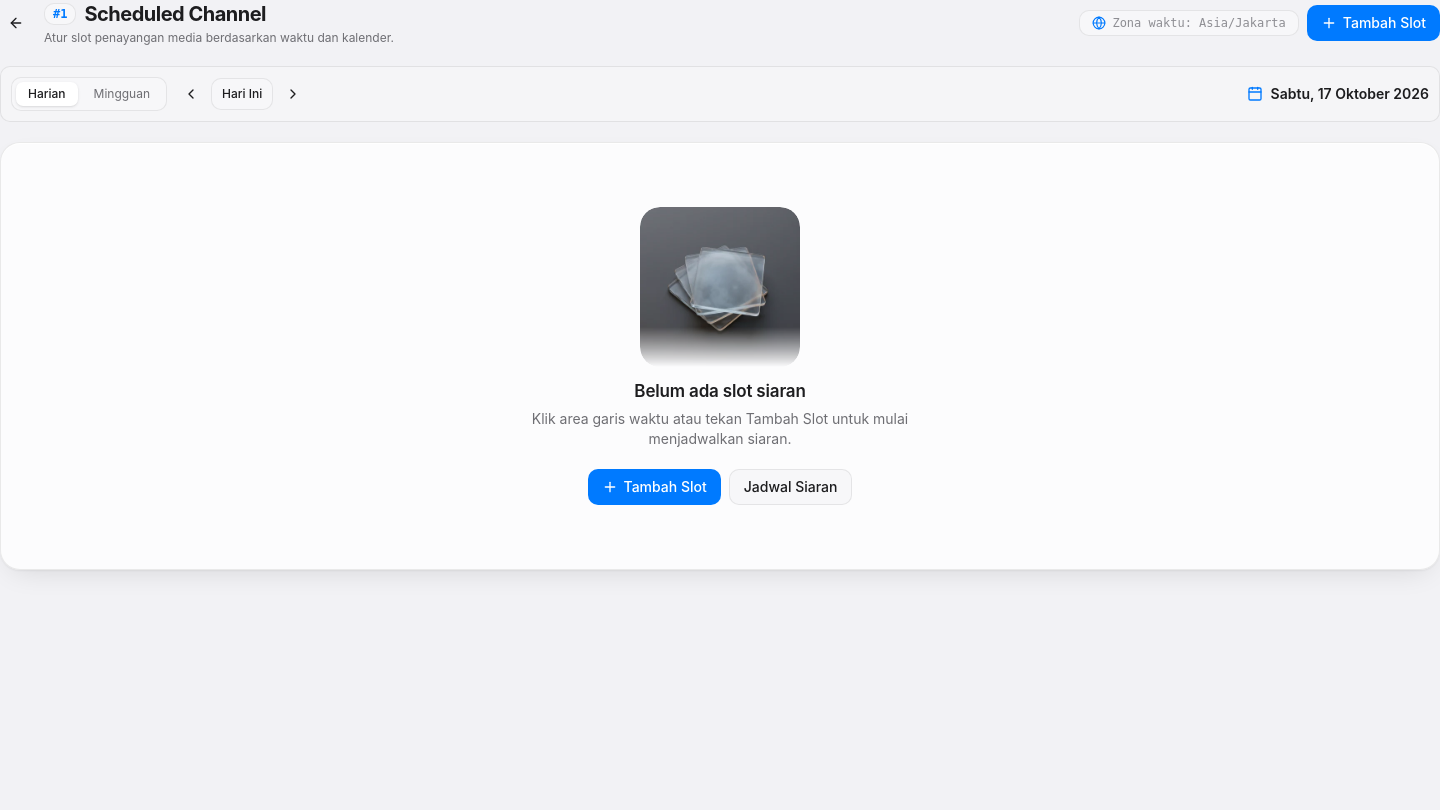
Scenario: SchedulePage › renders EmptyState when there are no slots and opens modal on add slot
expect the heading "Belum ada slot siaran" is shown: met, box [634,379,806,404]
Click Add Slot
Click the button "Tambah Slot" next to "Zona waktu: Asia/Jakarta": click(1373, 23) [1307,5,1439,41]
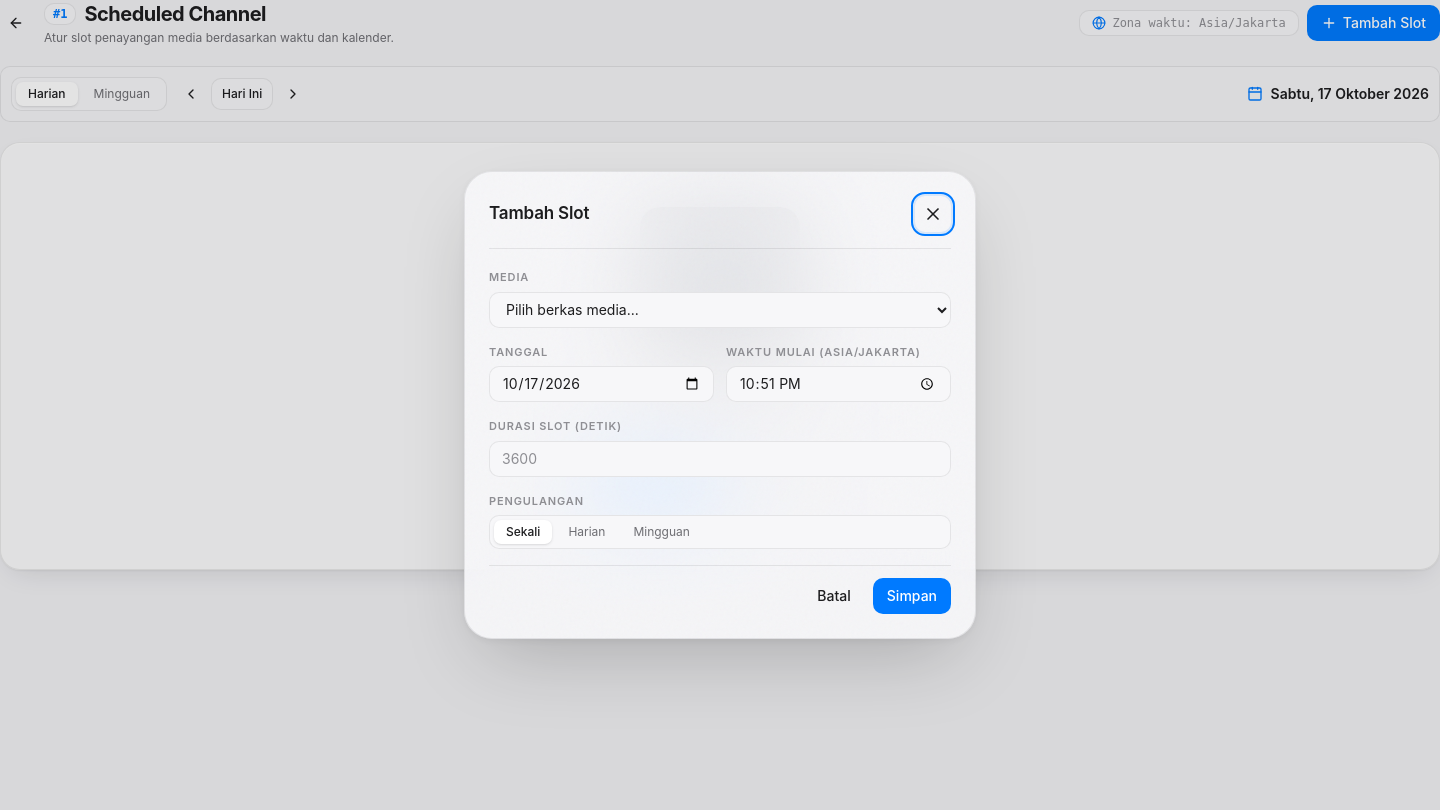
expect the heading "Tambah Slot" is shown: met, box [489,201,589,227]
